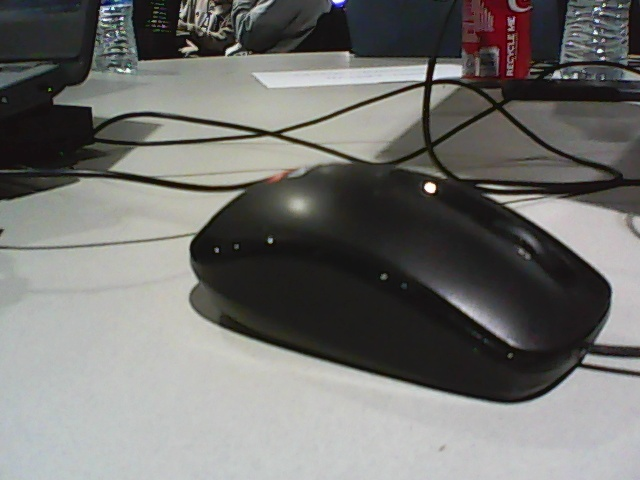mouse: (189, 163, 612, 405)
